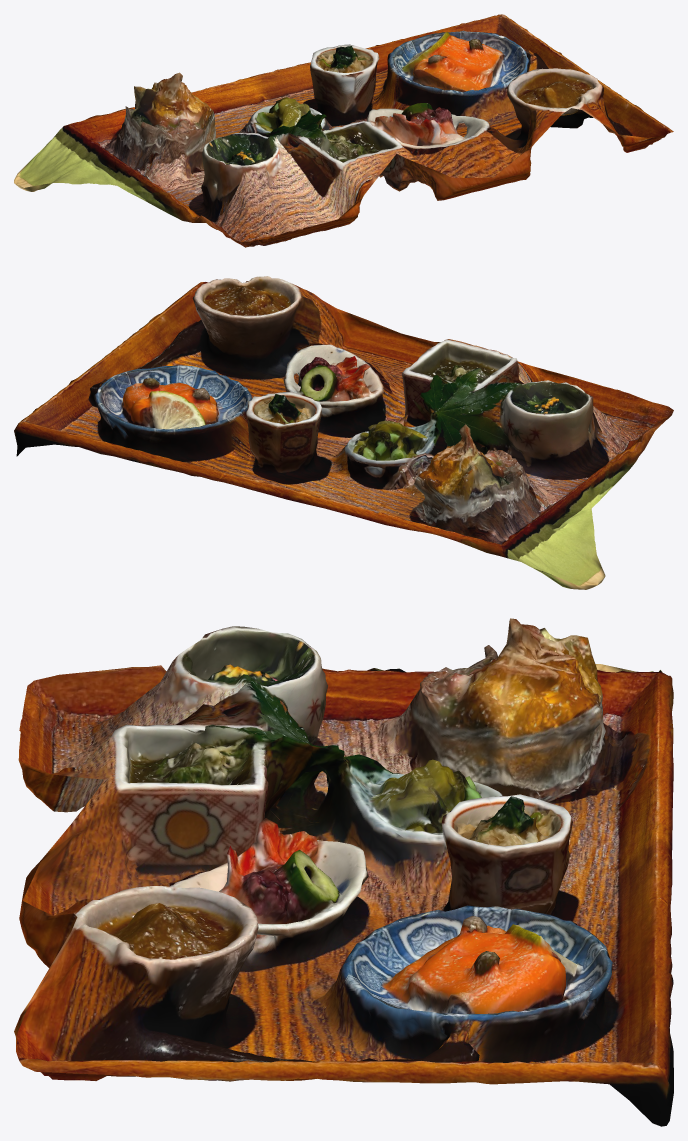
Rendered from uotome-8.glb.
3 renders of one model, top to bottom at view 1: azimuth 30°, elevation 25°; view 2: azimuth 150°, elevation 25°; view 3: azimuth 270°, elevation 25°, orthographic. The views are drawn at different scales.
Visible parts, largest first — view 1: baked_mesh; view 2: baked_mesh; view 3: baked_mesh.
Boxes of the visible parts, <box> form: baked_mesh: <box>14,14,673,247</box>; baked_mesh: <box>14,276,673,589</box>; baked_mesh: <box>14,618,673,1126</box>.
Bounding box in the file's own units: 1.02 × 0.1813 × 0.5937.
Materials: 1 (1 with a texture image).
